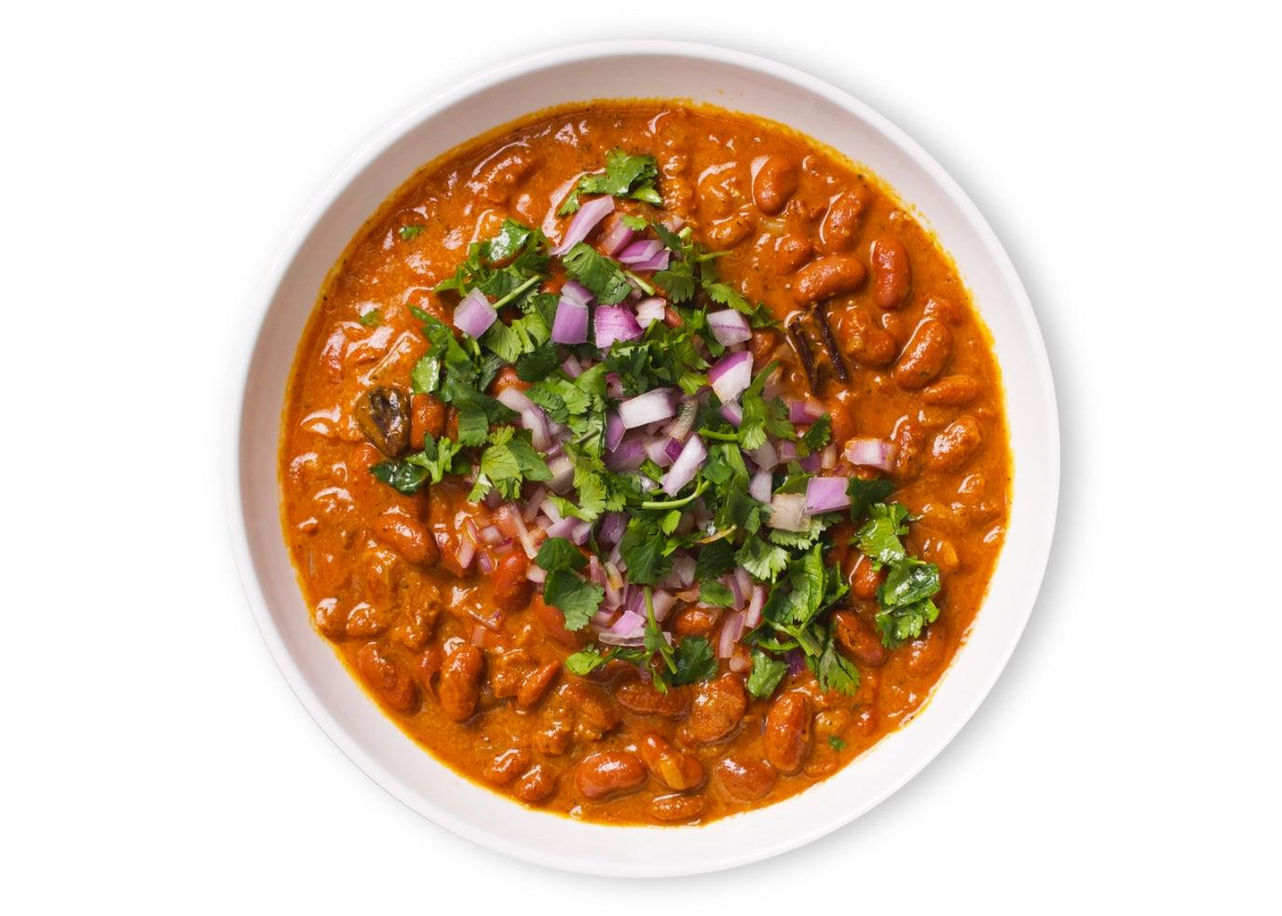rajma: (291, 98, 953, 811)
